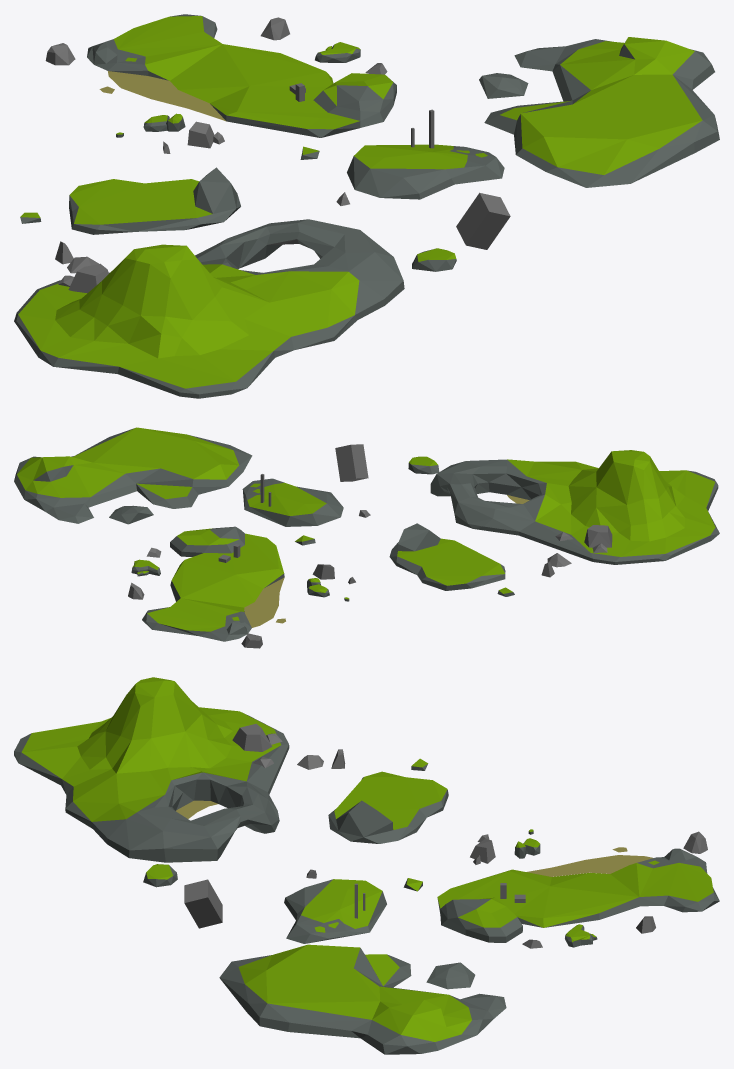
Rendered from Island.fbx.
The picture shows the model from 3 angles, top to bottom: view 1: azimuth 30°, elevation 25°; view 2: azimuth 150°, elevation 25°; view 3: azimuth 270°, elevation 25°; orthographic projection. The views are drawn at different scales.
Visible parts, largest first — view 1: Island; view 2: Island; view 3: Island.
Boxes of the visible parts, x1,y1,x2,y2 form: Island: (14,14,719,398); Island: (14,427,719,648); Island: (14,677,719,1054).
Size of the model in its own units: 1427 by 176 by 1231.
